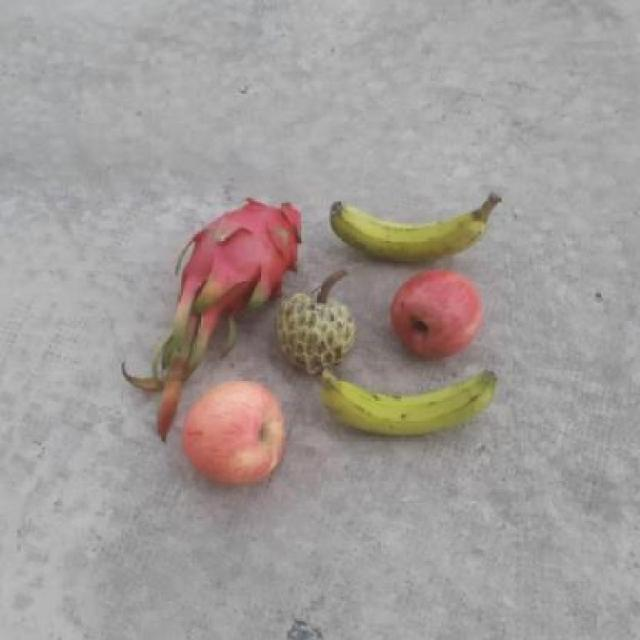apple: (178, 379, 284, 483), (377, 267, 478, 361)
banana: (310, 366, 508, 434), (326, 195, 502, 260)
dragon fruit: (178, 194, 304, 311)
sugar apple: (270, 292, 361, 373)
